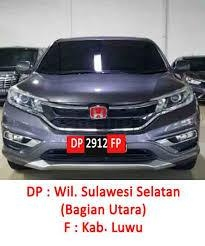plate: (70, 135, 121, 155)
